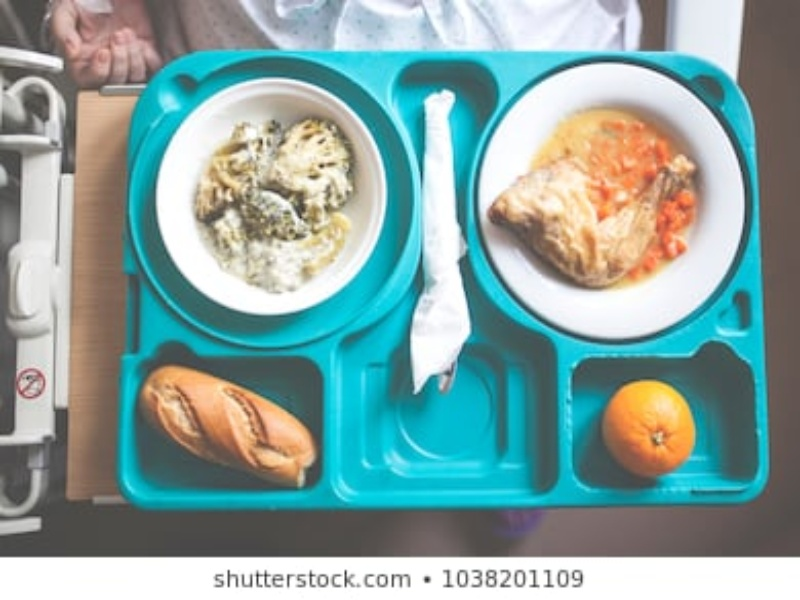plastic-tray: (117, 52, 776, 509)
